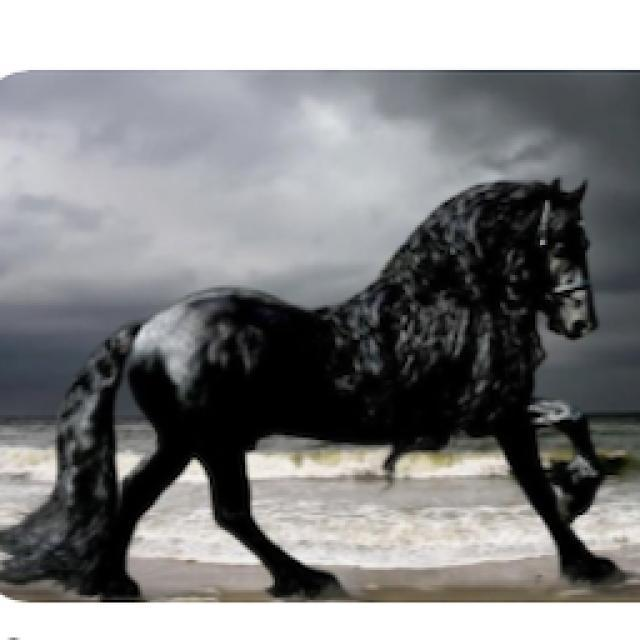Horse: (0, 170, 635, 600)
